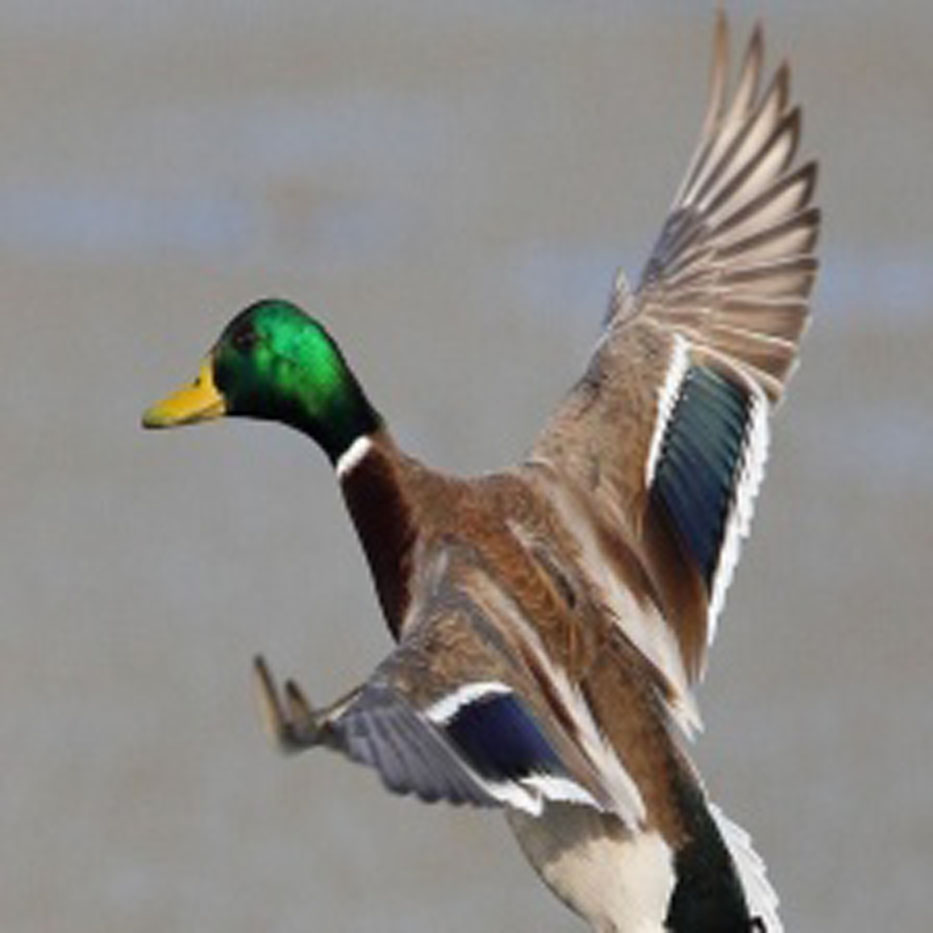Mencari Makan di Lumpur: (124, 349, 228, 448)
